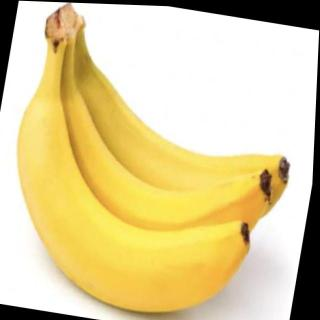banana: (0, 87, 274, 320), (25, 85, 285, 279), (49, 68, 304, 244)
